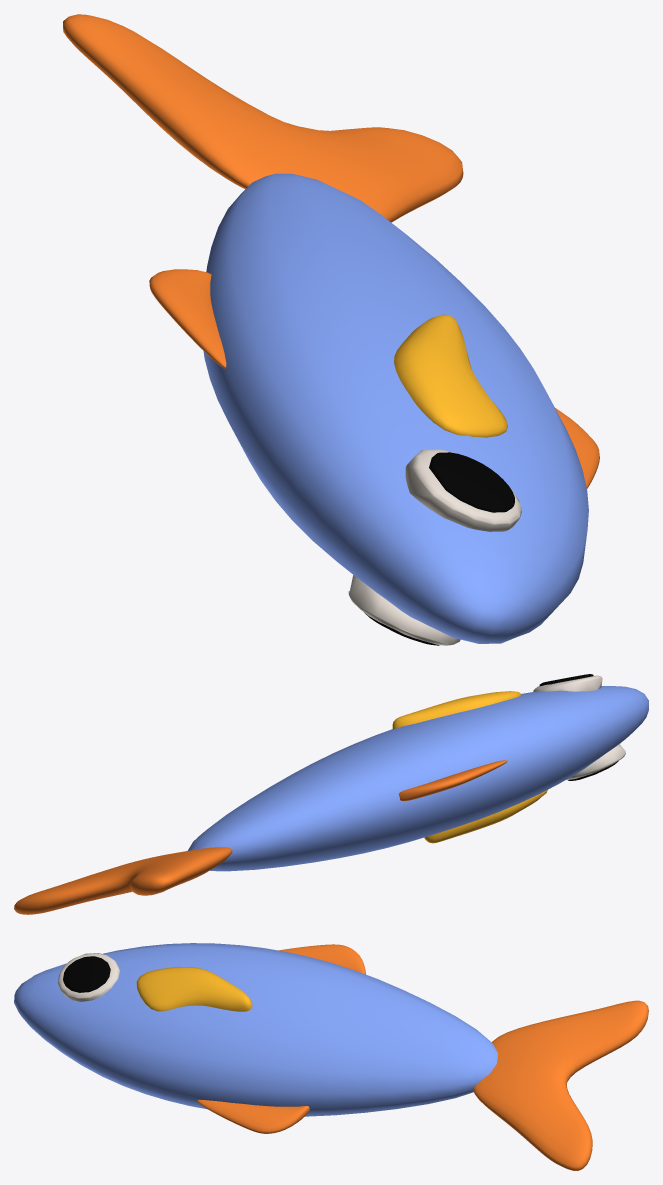
Rendered from Fish.fbx.
The picture shows the model from 3 angles, top to bottom: view 1: azimuth 30°, elevation 25°; view 2: azimuth 150°, elevation 25°; view 3: azimuth 270°, elevation 25°; orthographic projection. The views are drawn at different scales.
Parts seen in each view (by area): view 1: Fish, Cube.414, Cube.415, Cube.411, BigEyeball.002, EyePupil02.007, BigEyeball.001, Cube.412; view 2: Fish, Cube.414, Cube.415, Cube.411, Cube.416, BigEyeball.002, BigEyeball.001; view 3: Fish, Cube.414, Cube.415, Cube.412, EyePupil02.007, Cube.411, BigEyeball.002.
Boxes of the visible parts, left/top/right/bottom form: Fish: left=203, top=173, right=588, bottom=643; Cube.414: left=63, top=14, right=463, bottom=222; Cube.415: left=394, top=314, right=507, bottom=437; Cube.411: left=149, top=269, right=226, bottom=368; BigEyeball.002: left=405, top=449, right=521, bottom=531; EyePupil02.007: left=429, top=452, right=514, bottom=512; BigEyeball.001: left=348, top=575, right=460, bottom=645; Cube.412: left=555, top=408, right=599, bottom=488; Fish: left=187, top=686, right=648, bottom=871; Cube.414: left=14, top=847, right=232, bottom=914; Cube.415: left=392, top=691, right=521, bottom=729; Cube.411: left=399, top=760, right=507, bottom=801; Cube.416: left=424, top=790, right=547, bottom=843; BigEyeball.002: left=533, top=675, right=602, bottom=691; BigEyeball.001: left=566, top=744, right=625, bottom=779; Fish: left=14, top=943, right=498, bottom=1116; Cube.414: left=473, top=1000, right=648, bottom=1170; Cube.415: left=136, top=967, right=252, bottom=1011; Cube.412: left=197, top=1099, right=309, bottom=1133; EyePupil02.007: left=63, top=956, right=110, bottom=992; Cube.411: left=278, top=944, right=365, bottom=974; BigEyeball.002: left=58, top=953, right=119, bottom=1001.
Bounding box in the file's own units: 19.5 × 7.21 × 36.1.
